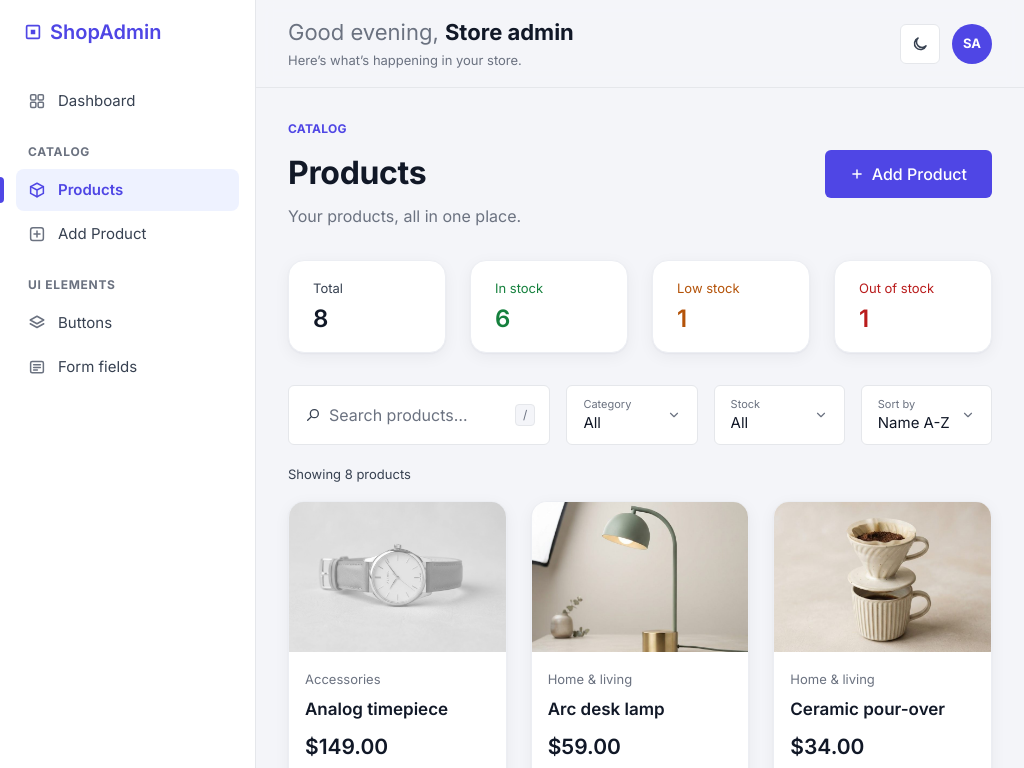
Test case: Products page › filters by category with the custom dropdown
The image size is (1024, 768).
Click the dropdown labelled "Category": [632, 415] box x1=566 y1=385 x2=698 y2=445
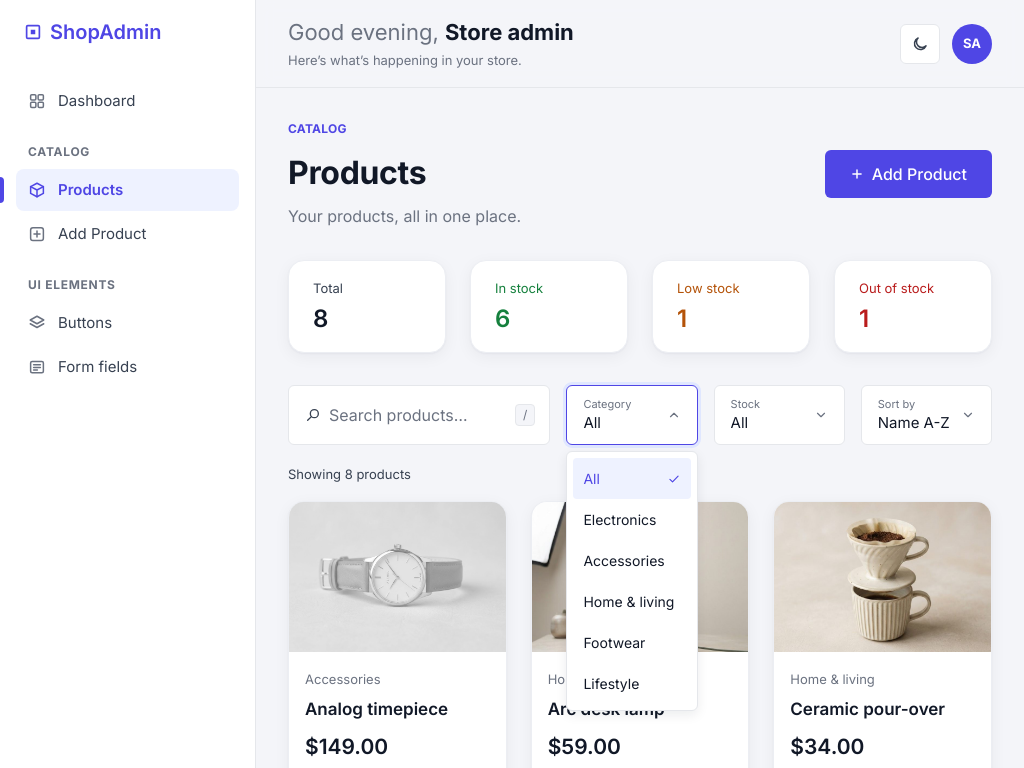
Click the option "Footwear": [614, 643] box x1=583 y1=634 x2=645 y2=651
(page scrolled)
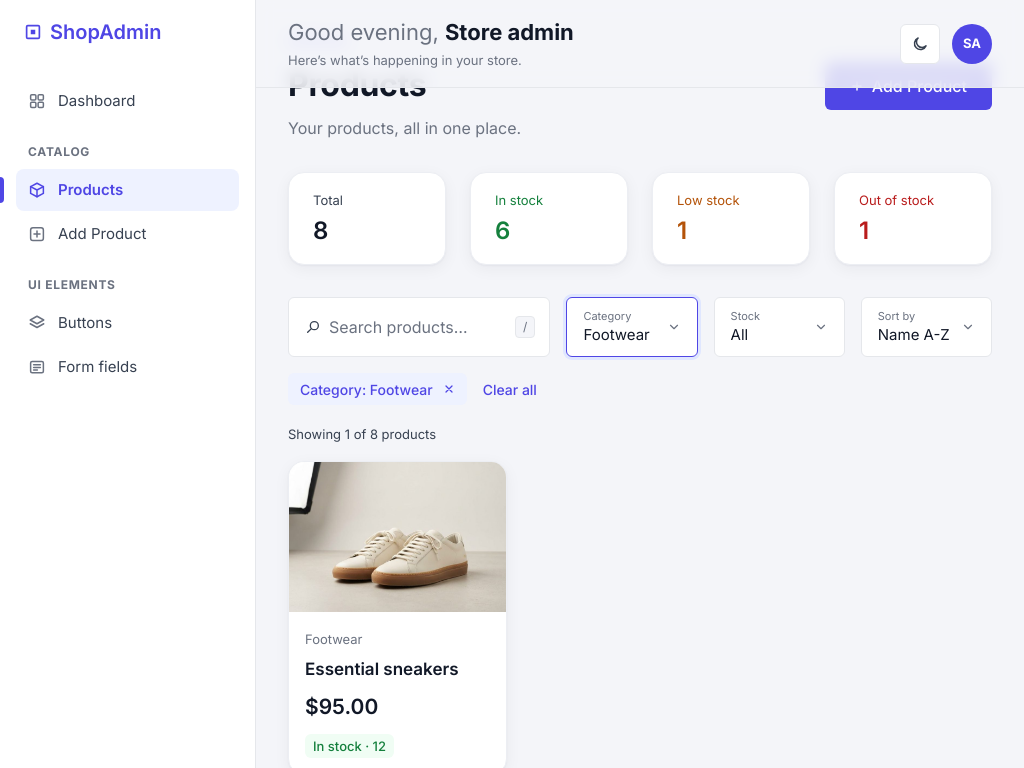
Now the button "Category: Footwear" is shown, box x1=288 y1=373 x2=467 y2=405
